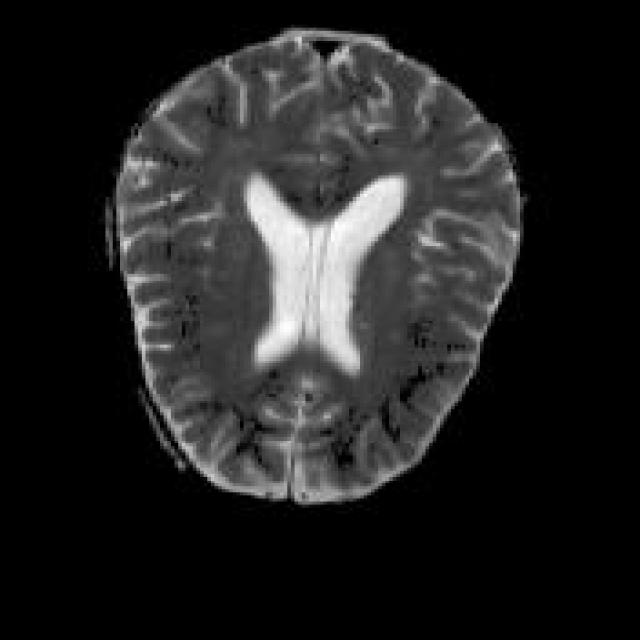CONTROL: (101, 24, 524, 504)
